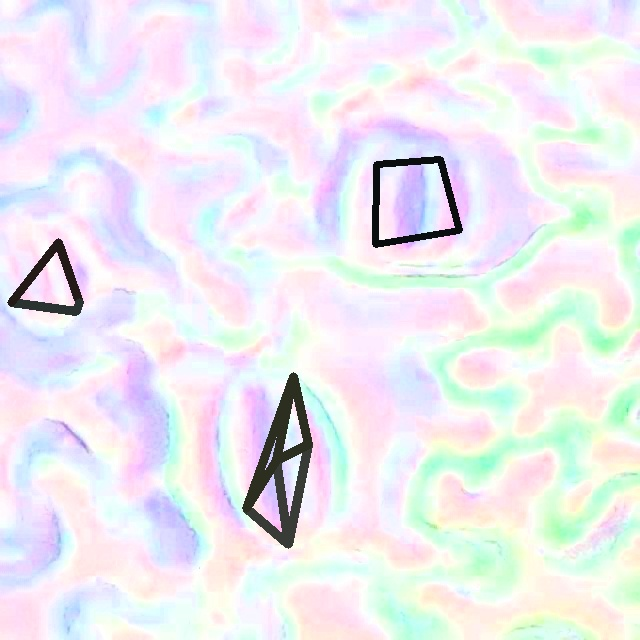open: (242, 372, 311, 548), (373, 156, 462, 247), (7, 238, 83, 315)
